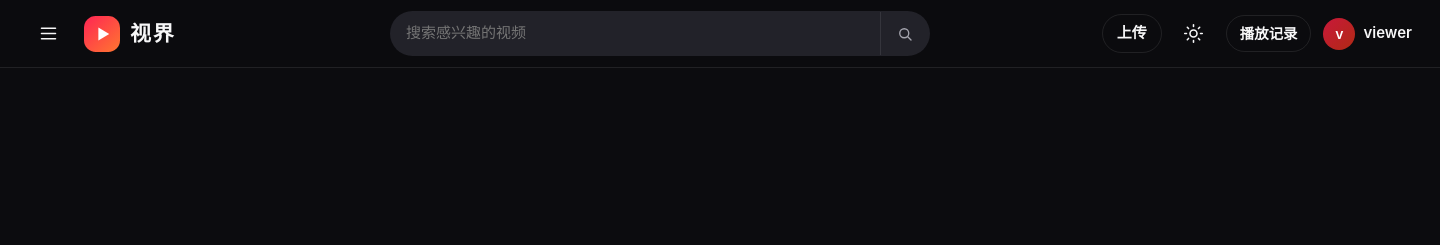
Scenario: AppHeader watch history dropdown › loads recent watch history on hover and links to video pages
Hover over the element with class "app-header__history" at [1269, 38], box [1226,15,1312,62]
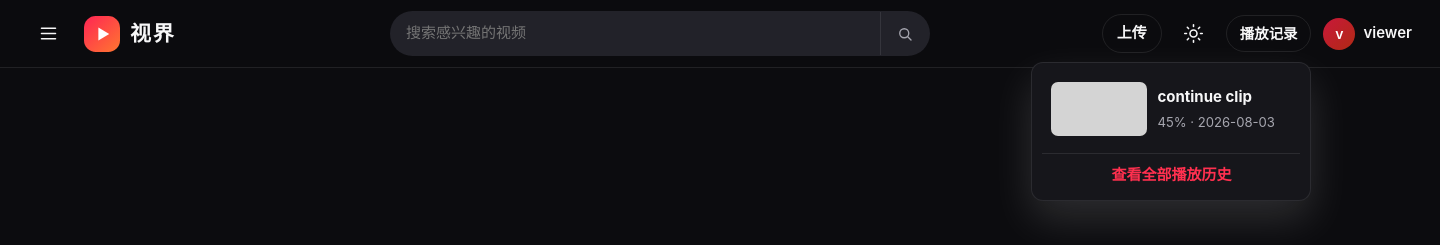
Now the text "continue clip" is shown, box [1157,87,1252,106]
